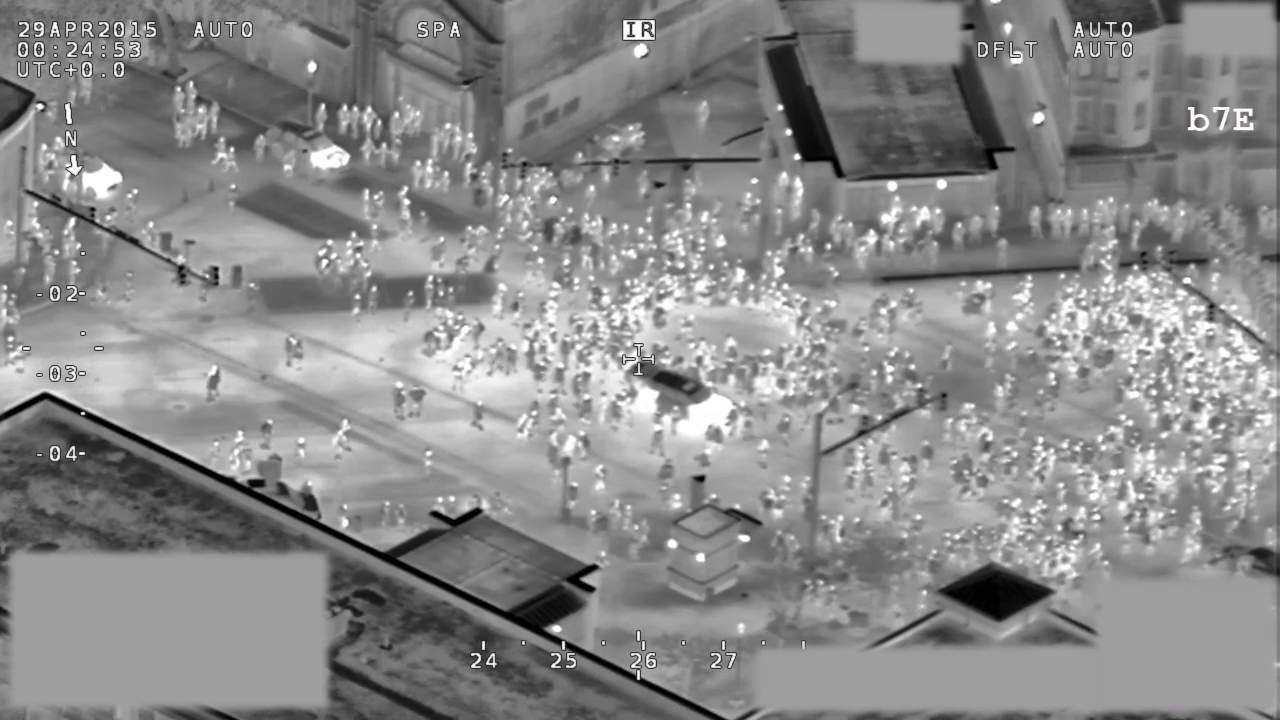vehicle: (617, 355, 746, 439), (252, 112, 356, 183), (34, 136, 125, 208), (1217, 537, 1280, 584)
